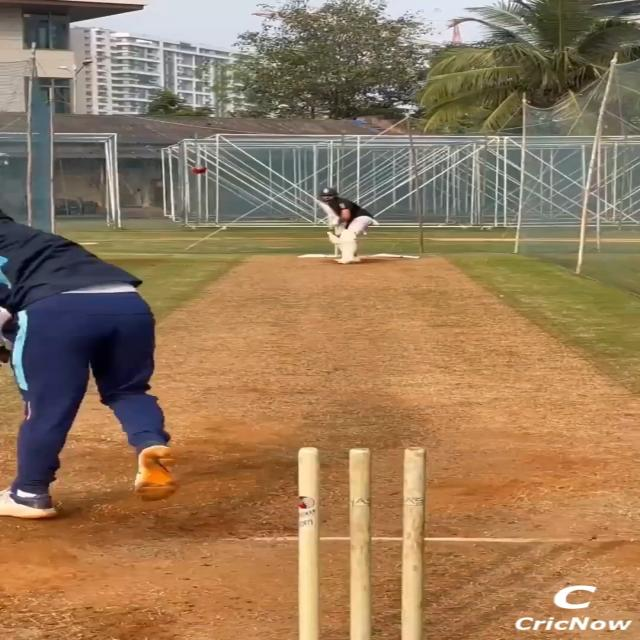Cricket ball: (295, 446, 429, 640), (192, 165, 206, 175)
